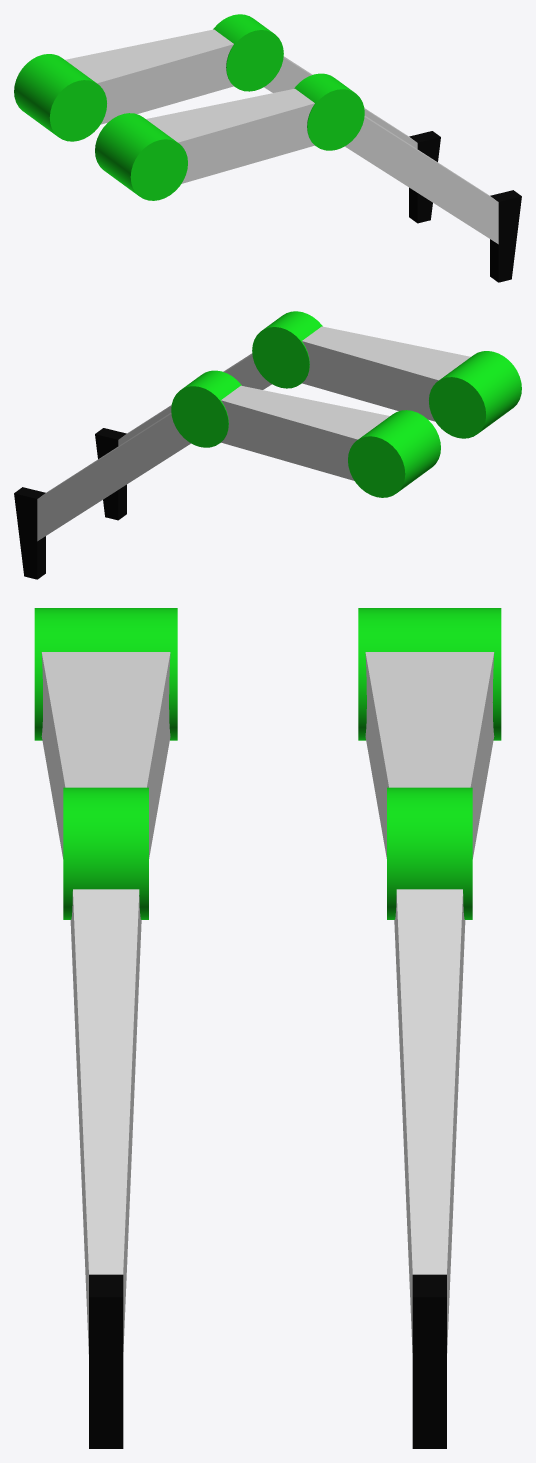
File: claw-right.glb
3 views of the same model, one above another, from view 1: azimuth 30°, elevation 25°; view 2: azimuth 150°, elevation 25°; view 3: azimuth 270°, elevation 25° (orthographic). The views are drawn at different scales.
Visible parts, largest first — view 1: SM_Hand_Right; view 2: SM_Hand_Right; view 3: SM_Hand_Right.
Part boxes in pixels (x1,y1,x2,y2): SM_Hand_Right: (14, 14, 521, 282); SM_Hand_Right: (14, 311, 521, 579); SM_Hand_Right: (34, 608, 501, 1448).
Size of the model in its own units: 2.38 by 1.34 by 1.19.
